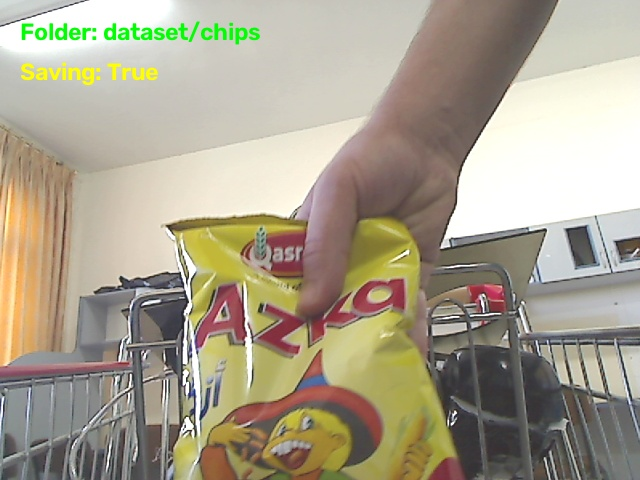chips: (168, 216, 461, 479)
